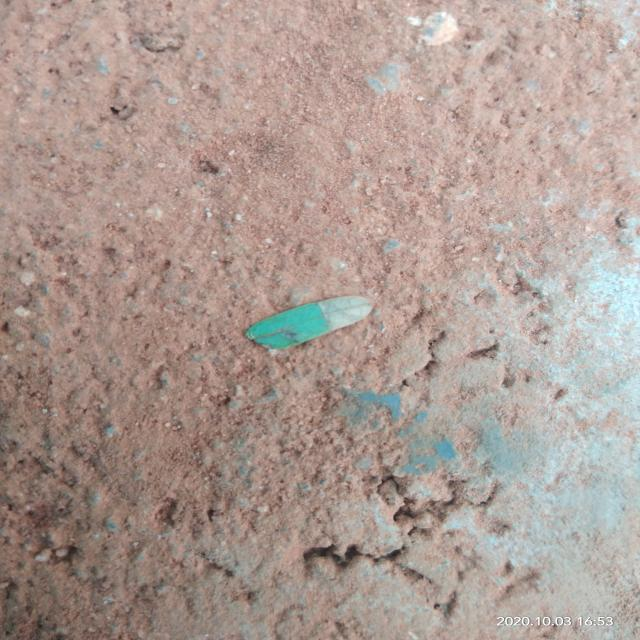defectedtamarind: (318, 296, 372, 331)
tamarind: (245, 296, 372, 349)
